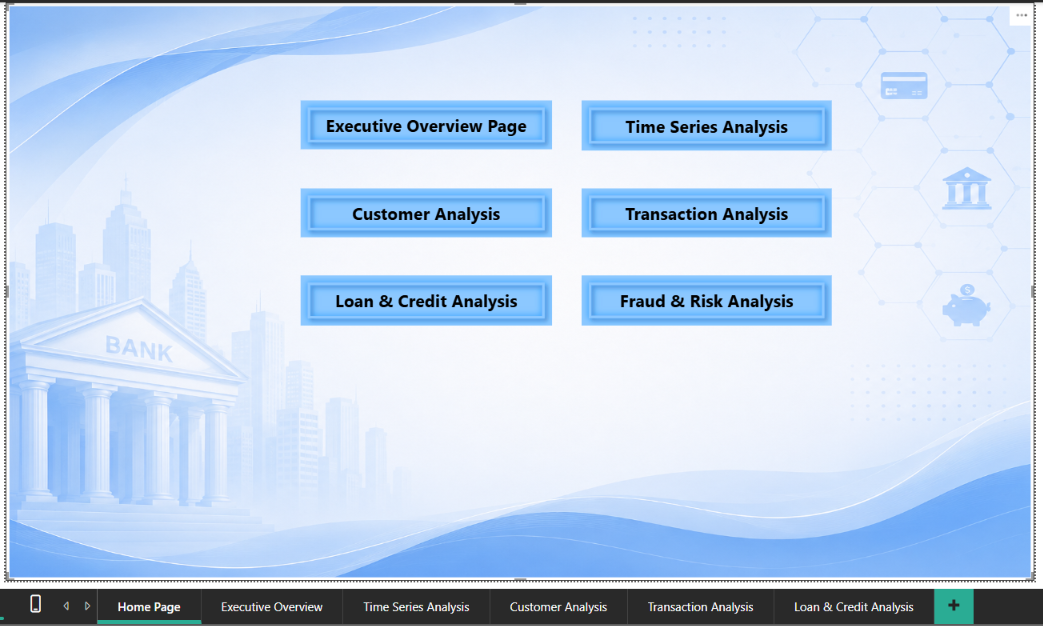

This screenshot's page, from the dashboard's own definition file:
{"tool":"powerbi","page":{"name":"Home Page","canvas":[1280,720],"ordinal":0},"visuals":[{"type":"image","box":[9.6,0,1270.7,720.4],"z":0}]}

Visuals, with their boxes in screenshot pixels (x1, y1, x2, y2):
image: 8, 0, 1029, 579
